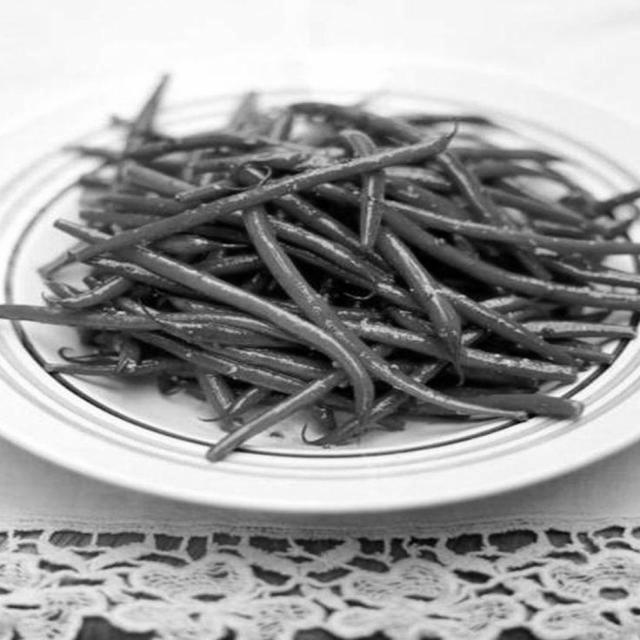Beans: (0, 103, 639, 444)
